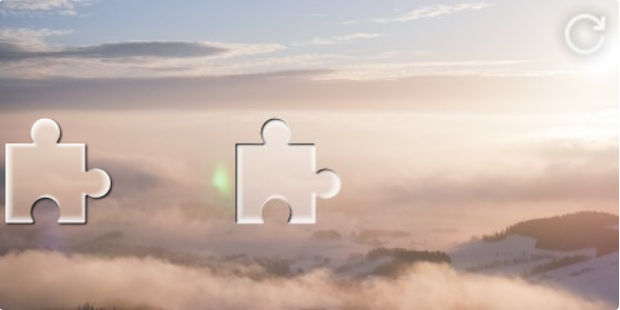target: (236, 118, 340, 223)
